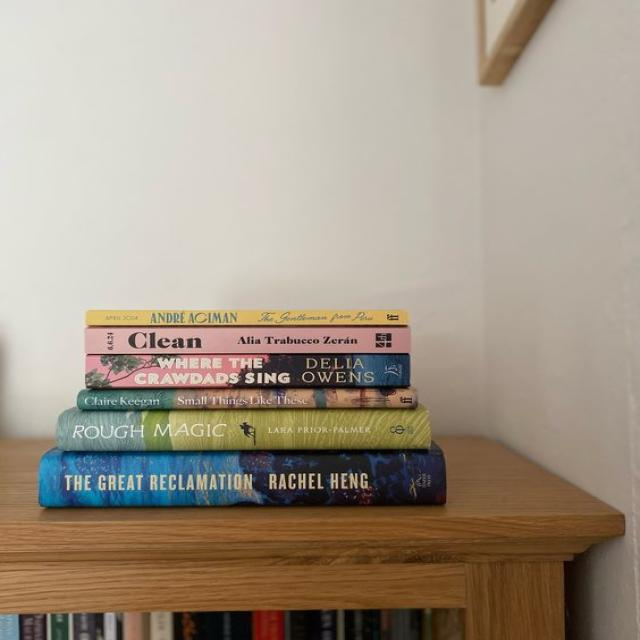book: (42, 455, 446, 502), (57, 412, 431, 449), (89, 354, 409, 388), (87, 329, 407, 352), (80, 391, 416, 409), (86, 310, 409, 326)
